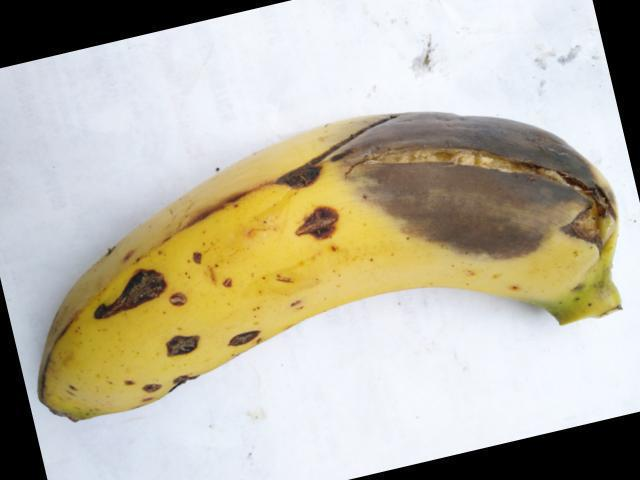rotten: (333, 87, 614, 259), (85, 253, 176, 322), (277, 202, 351, 251), (131, 360, 208, 399), (216, 307, 276, 352), (150, 314, 204, 363), (263, 157, 325, 186)
